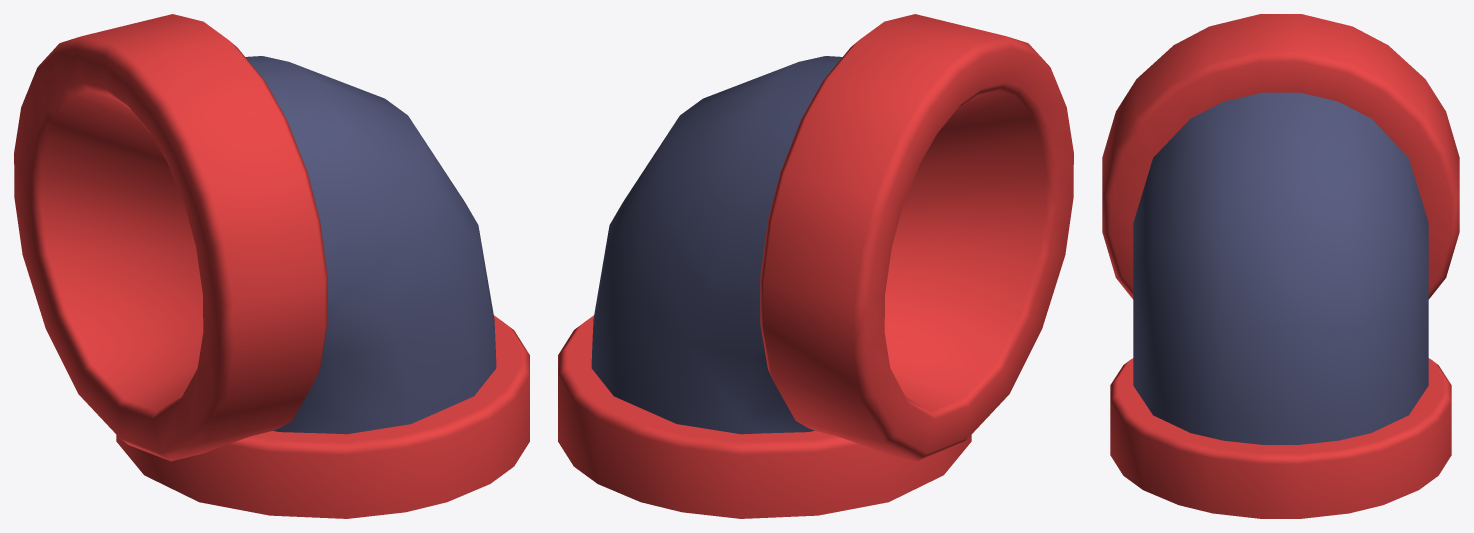
Rendered from Pipe.fbx.
3 renders of one model, left to right at view 1: azimuth 30°, elevation 25°; view 2: azimuth 150°, elevation 25°; view 3: azimuth 270°, elevation 25°, orthographic. The views are drawn at different scales.
Visible parts, largest first — view 1: Pipe; view 2: Pipe; view 3: Pipe.
Boxes of the visible parts, bbox=[...] form: Pipe: bbox=[14, 14, 529, 518]; Pipe: bbox=[558, 14, 1073, 518]; Pipe: bbox=[1102, 14, 1459, 518].
Bounding box in the file's own units: 192 × 203 × 186.
